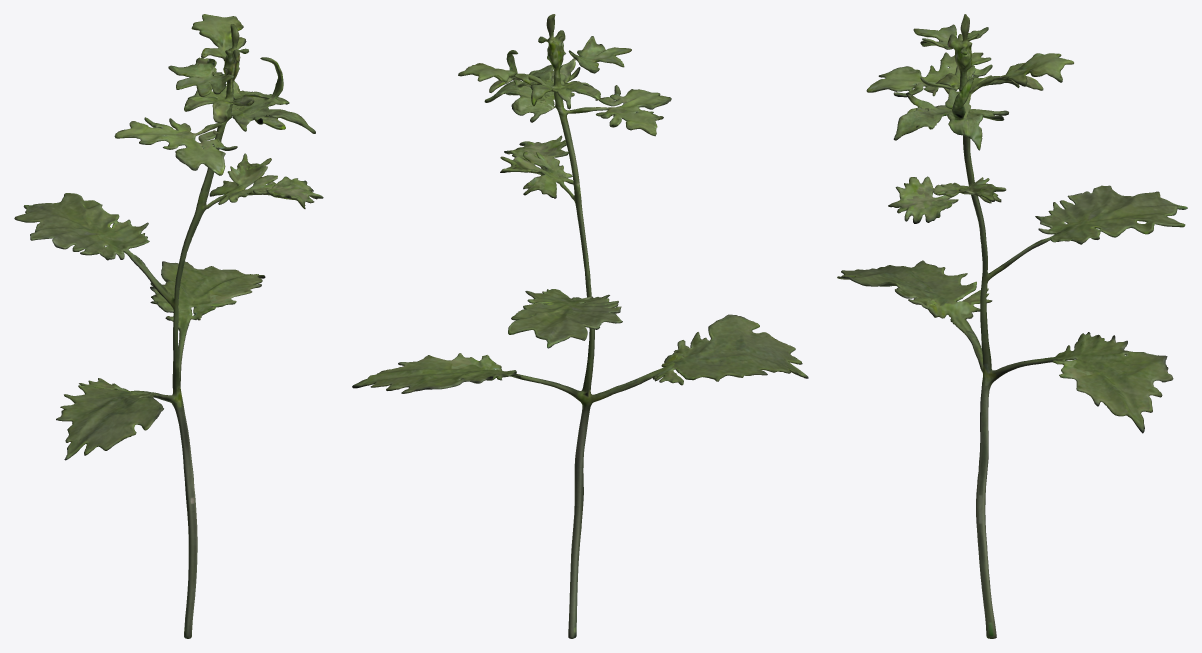
The model's file is herb0018.gltf.
3 renders of one model, left to right at view 1: azimuth 30°, elevation 25°; view 2: azimuth 150°, elevation 25°; view 3: azimuth 270°, elevation 25°, orthographic. The views are drawn at different scales.
Visible parts, largest first — view 1: Mesh_0.027; view 2: Mesh_0.027; view 3: Mesh_0.027.
Boxes of the visible parts, x1=… form: Mesh_0.027: x1=14, y1=14, x2=323, y2=638; Mesh_0.027: x1=352, y1=14, x2=808, y2=638; Mesh_0.027: x1=837, y1=14, x2=1187, y2=638.
Bounding box in the file's own units: 1.13 × 2 × 0.9923.
1 material, 1 textured.
